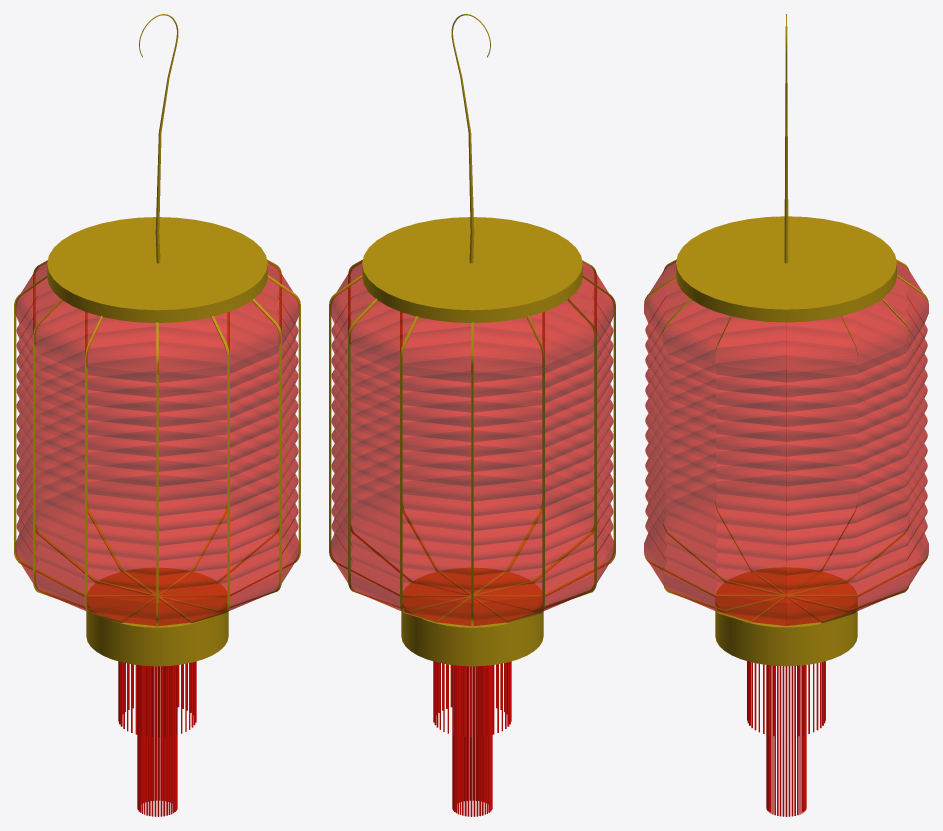
File: Chinese_Lantern.obj
3 renders of one model, left to right at view 1: azimuth 30°, elevation 25°; view 2: azimuth 150°, elevation 25°; view 3: azimuth 270°, elevation 25°, orthographic.
Visible parts, largest first — view 1: Cylinder, Tube.1, Tube, Sweep_1, Sweep; view 2: Cylinder, Tube.1, Tube, Sweep_1, Sweep; view 3: Cylinder, Tube.1, Tube, Sweep_1, Sweep.
Boxes of the visible parts, box(x1,y1,x2,y2) form: Cylinder: box(15, 261, 299, 625); Tube.1: box(47, 217, 267, 322); Tube: box(86, 568, 228, 666); Sweep_1: box(14, 259, 300, 627); Sweep: box(139, 14, 178, 263); Cylinder: box(330, 261, 614, 625); Tube.1: box(362, 217, 582, 322); Tube: box(401, 568, 543, 666); Sweep_1: box(329, 259, 615, 627); Sweep: box(451, 14, 490, 263); Cylinder: box(644, 261, 928, 625); Tube.1: box(676, 216, 896, 322); Tube: box(715, 567, 857, 666); Sweep_1: box(644, 259, 928, 623); Sweep: box(784, 14, 788, 263).
Size of the model in its own units: 29.96 by 91.24 by 29.66.
